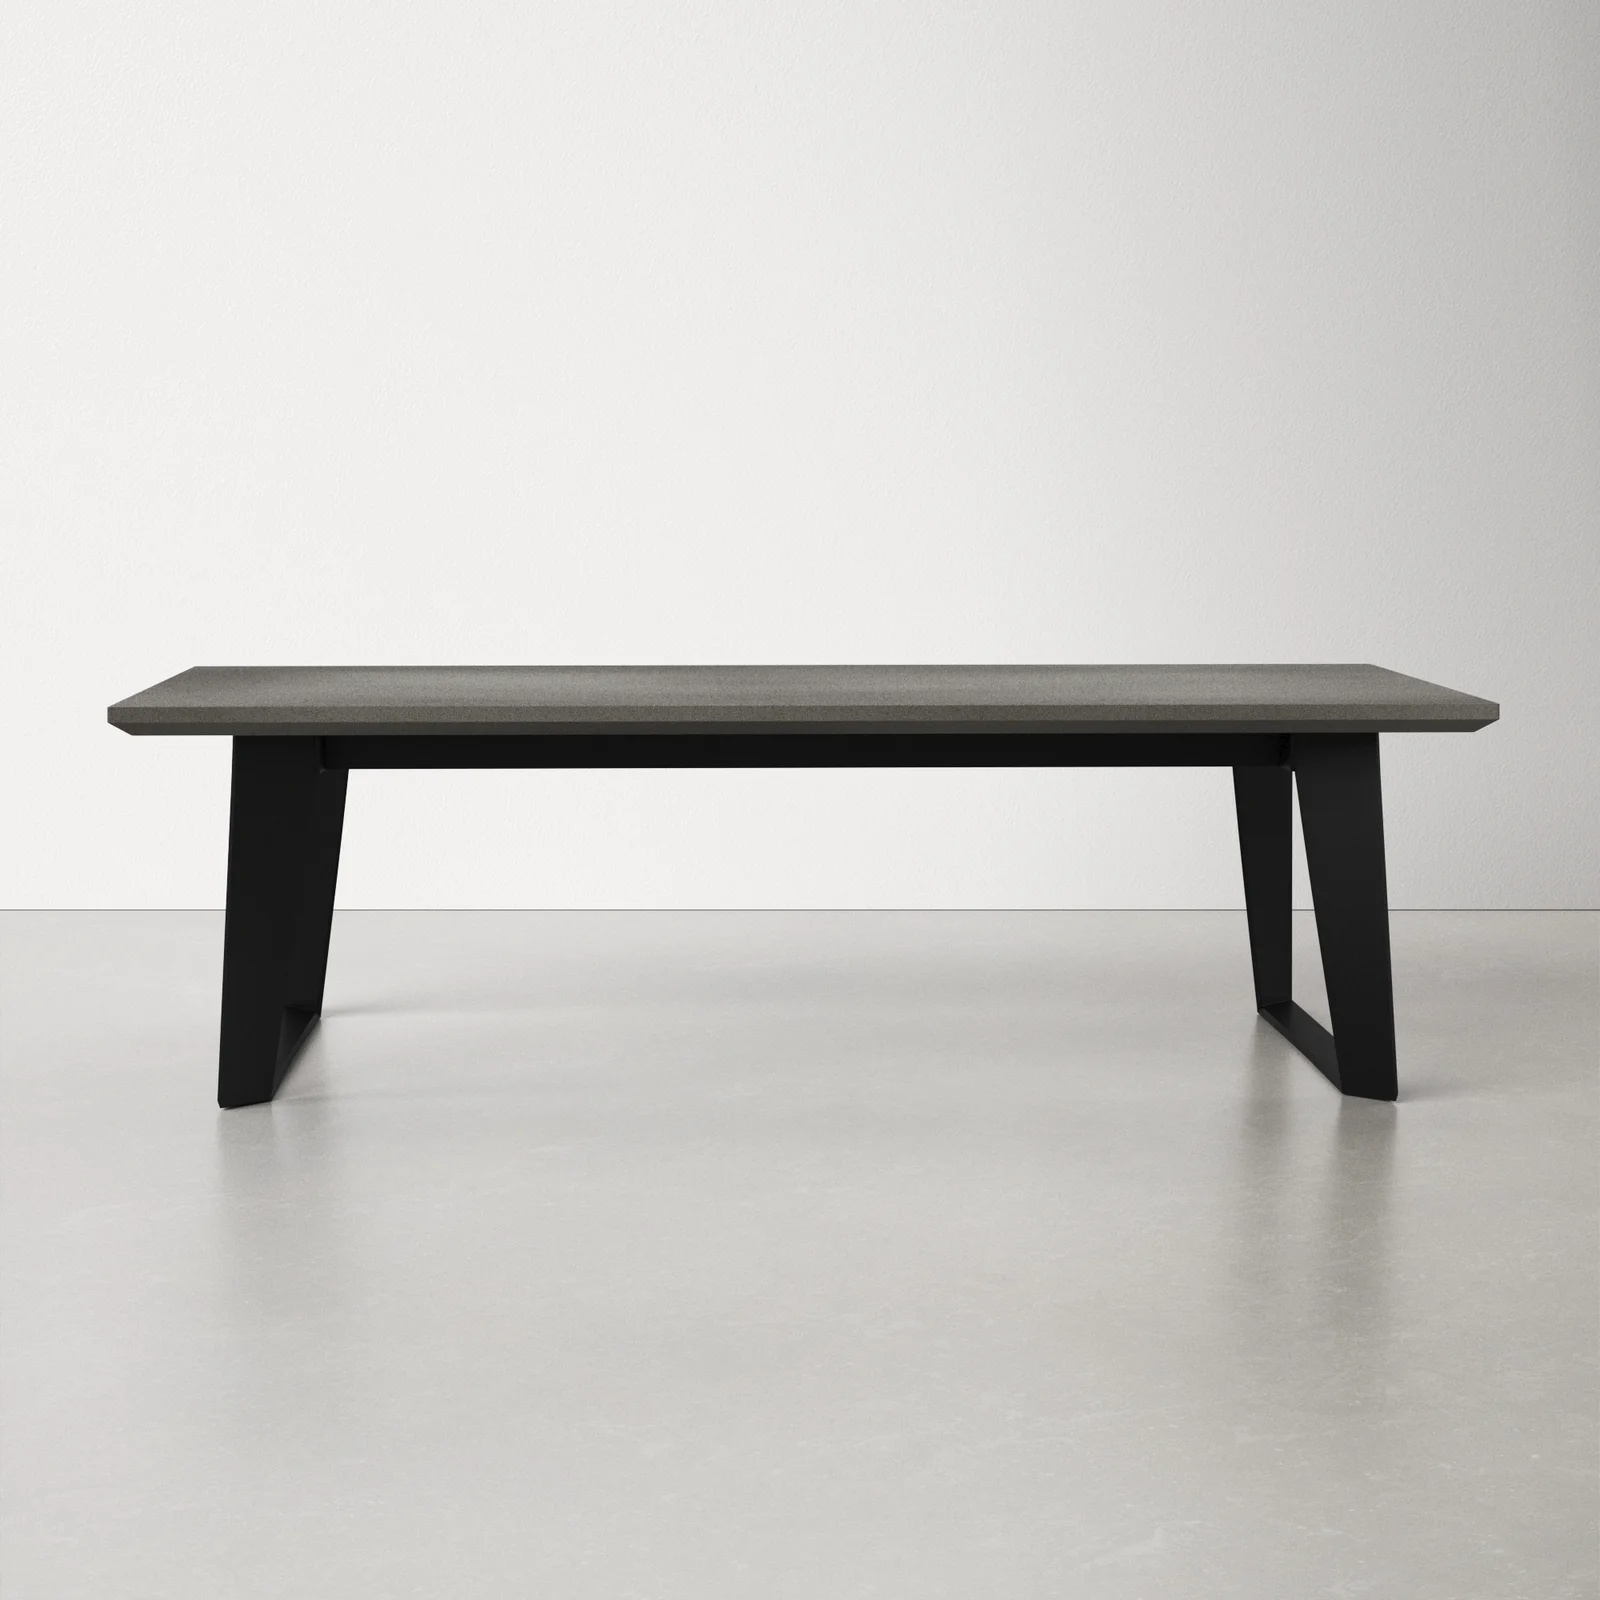obstacle: (108, 664, 1497, 1108)
